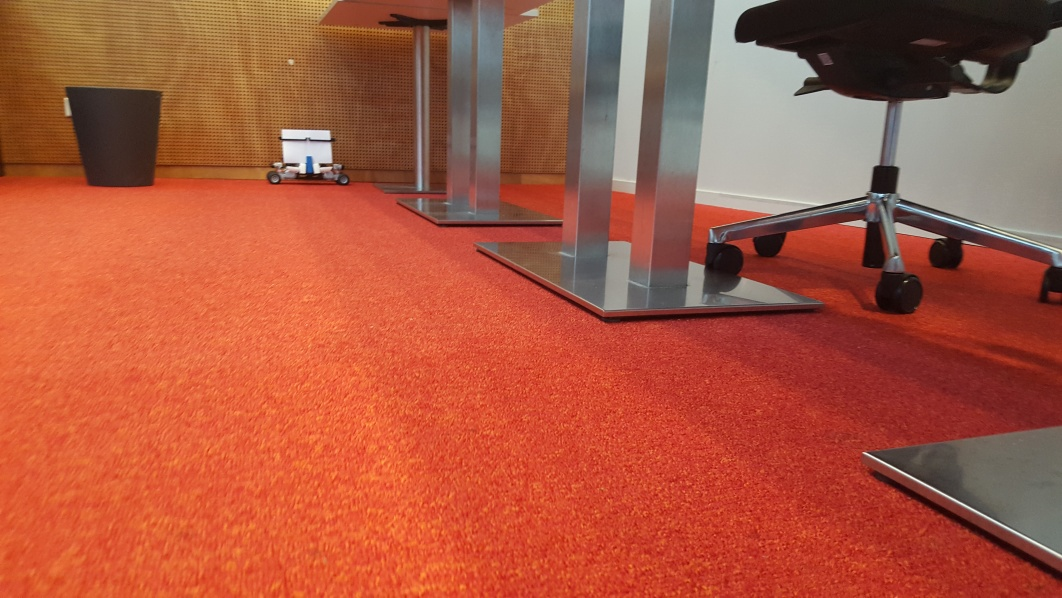car: (268, 128, 354, 186)
